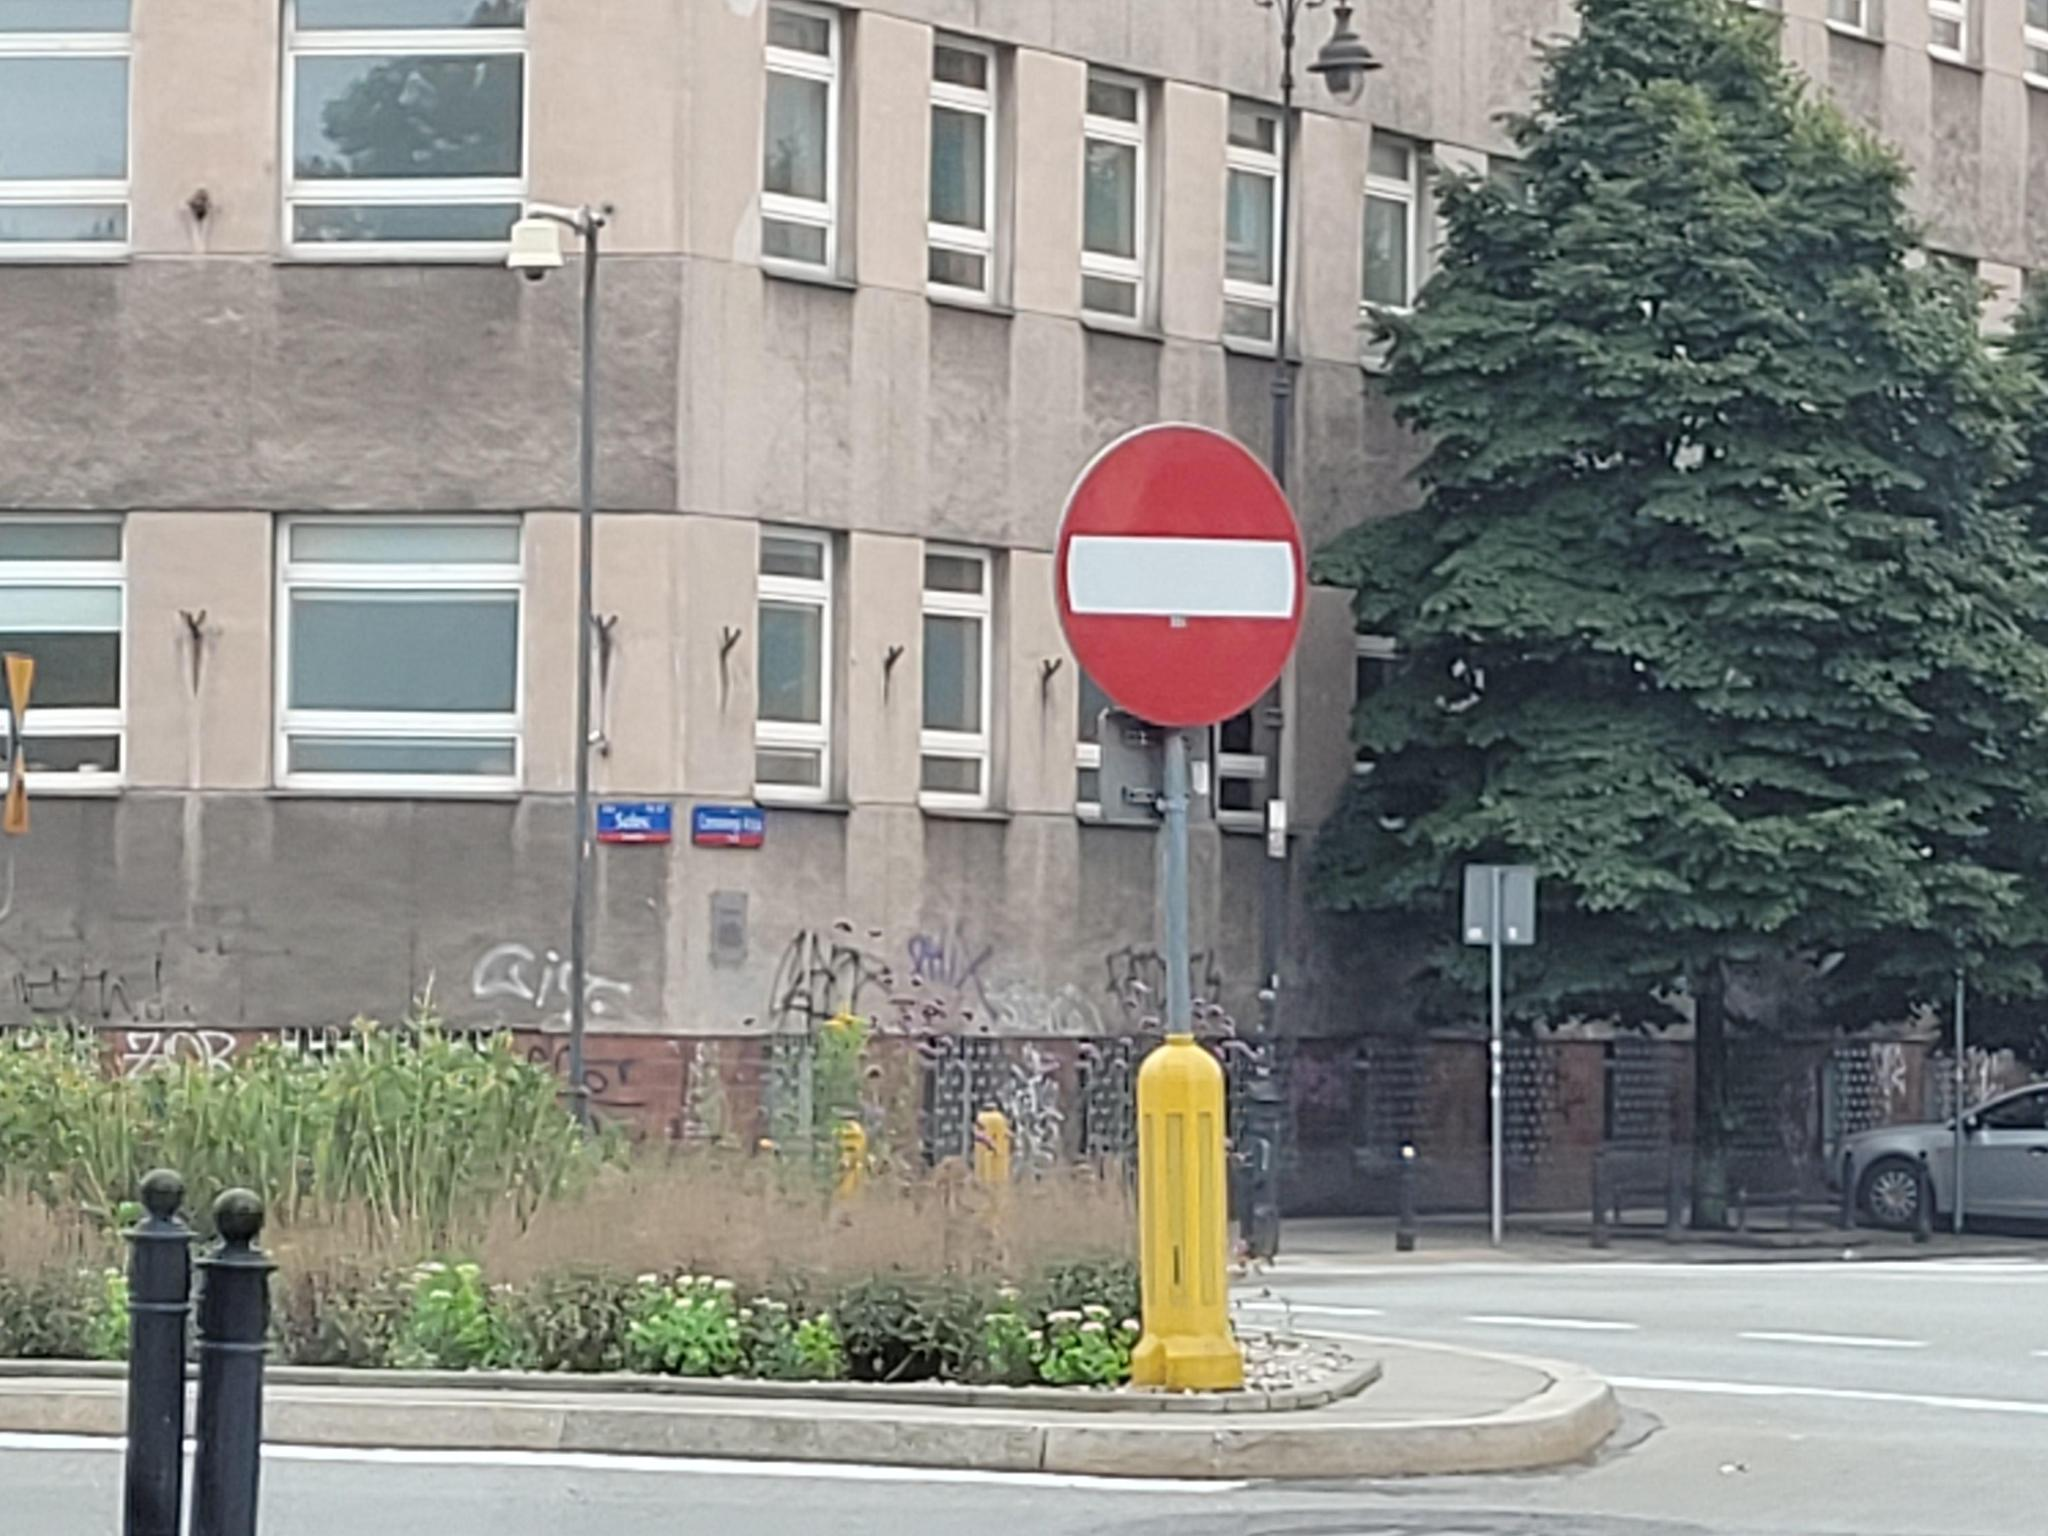prohibitory: (1055, 421, 1309, 729)
